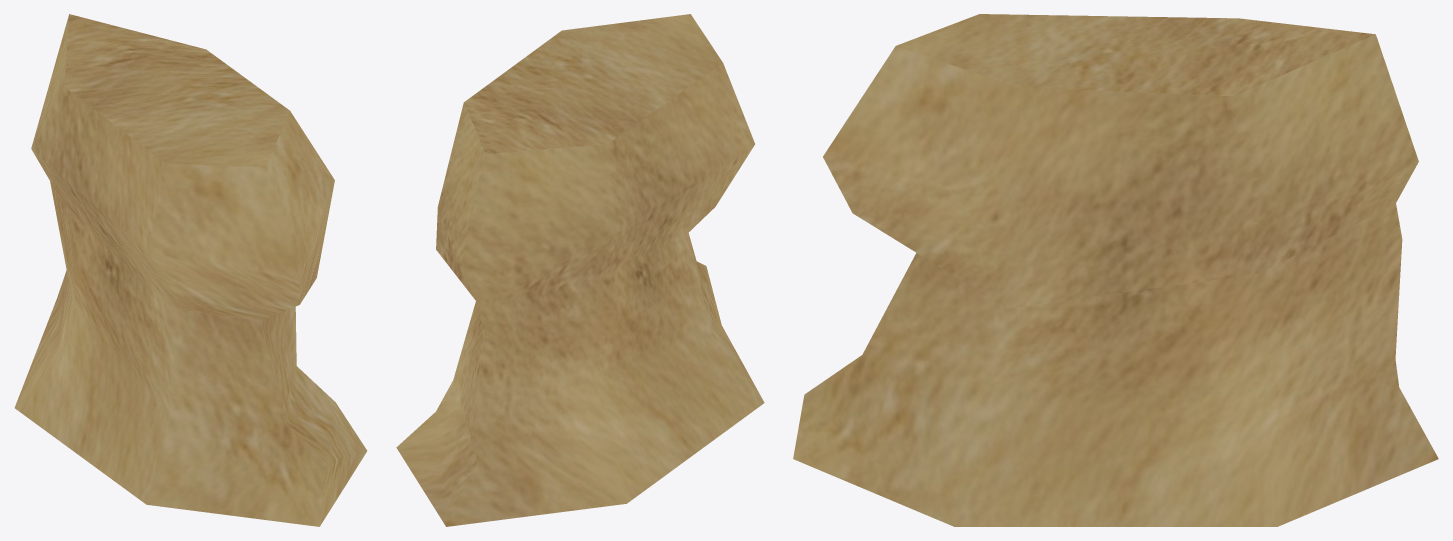
Rendered from rock_formation01_hdtex.glb.
3 views of the same model, side by side, from view 1: azimuth 30°, elevation 25°; view 2: azimuth 150°, elevation 25°; view 3: azimuth 270°, elevation 25° (orthographic). The views are drawn at different scales.
Visible parts, largest first — view 1: RR_Prop1; view 2: RR_Prop1; view 3: RR_Prop1.
Boxes of the visible parts, left/top/right/bottom form: RR_Prop1: left=14, top=14, right=367, bottom=526; RR_Prop1: left=396, top=14, right=764, bottom=526; RR_Prop1: left=793, top=14, right=1438, bottom=526.
Size of the model in its own units: 11.19 by 16.52 by 23.16.
1 material, 1 textured.
